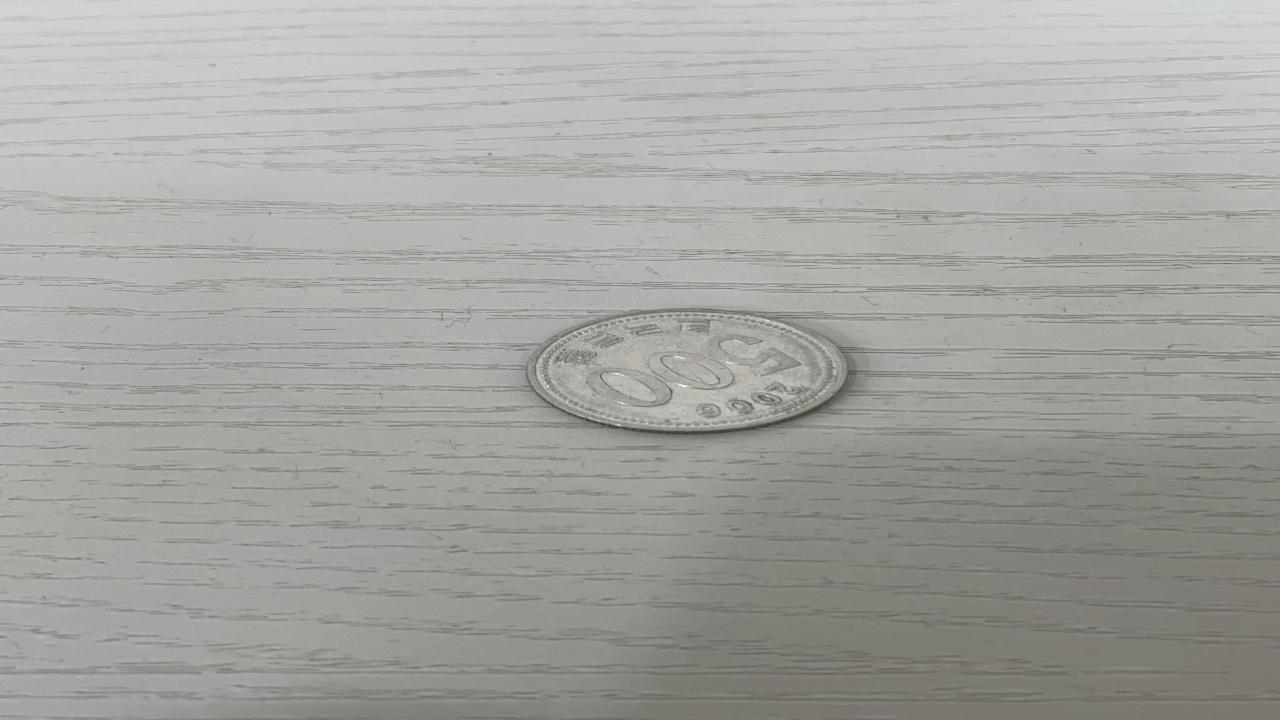coin: (521, 308, 853, 437)
